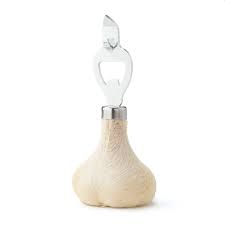bottleopener: (70, 15, 158, 207)
